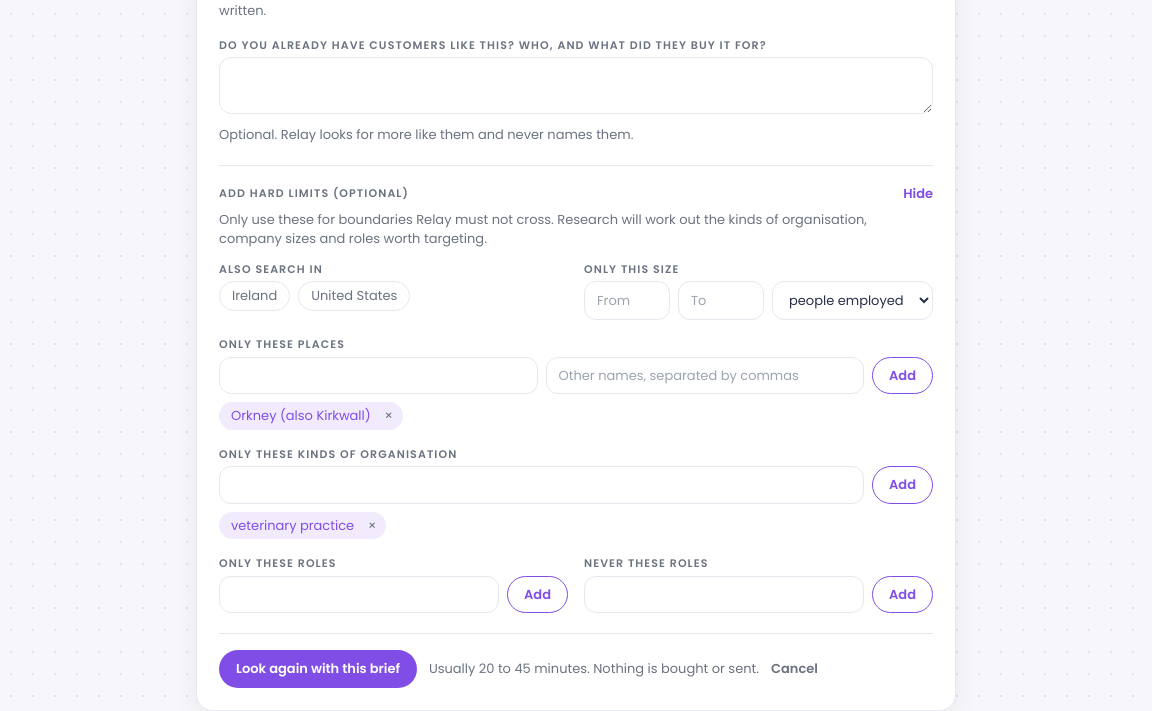
it: Edit brief › shows the line the server sends back, such as nothing having changed
(page scrolled)
Click the button "Look again with this brief". click: (318, 669)
box: [219,650,417,688]
(page scrolled)
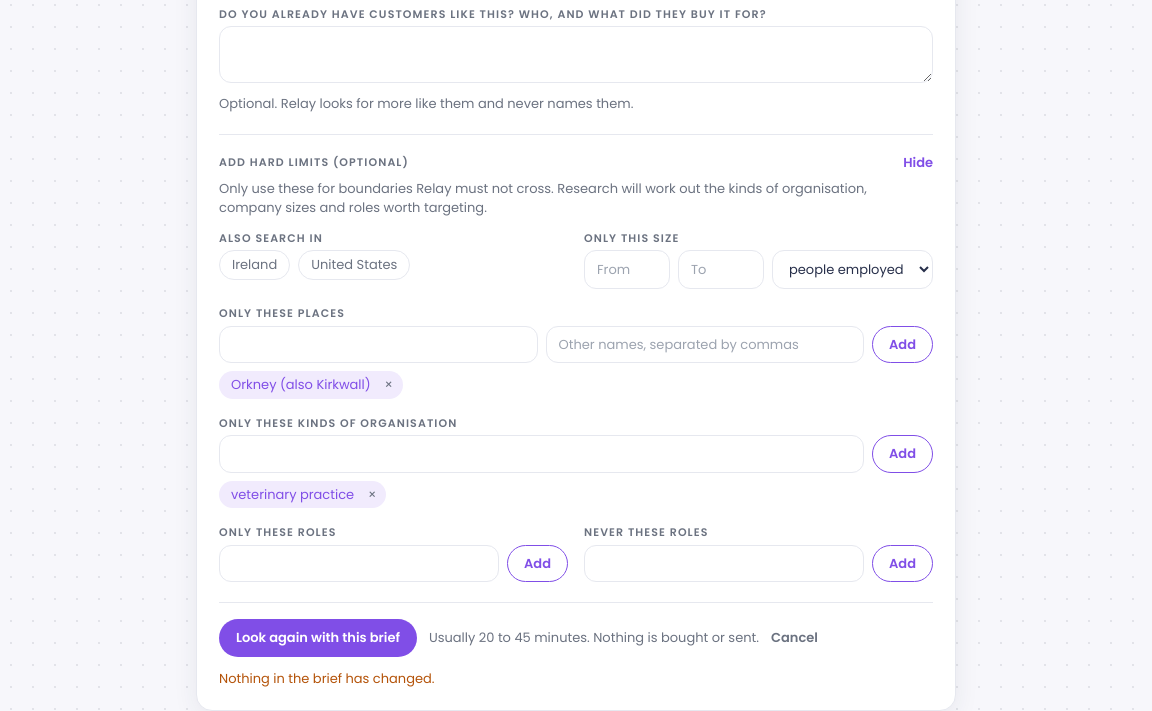
Expected: the message with test id "start-error" reads "Nothing in the brief has changed.", [219,669,435,688]
